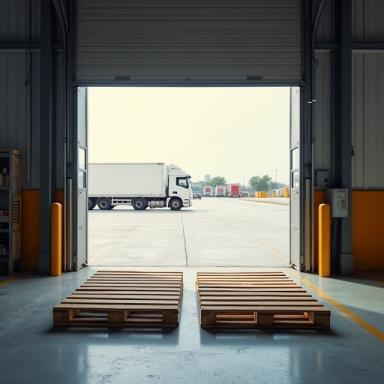pallet: (196, 271, 331, 329), (53, 270, 184, 327), (70, 310, 108, 322), (274, 312, 310, 321), (216, 312, 254, 320), (127, 311, 163, 318)
